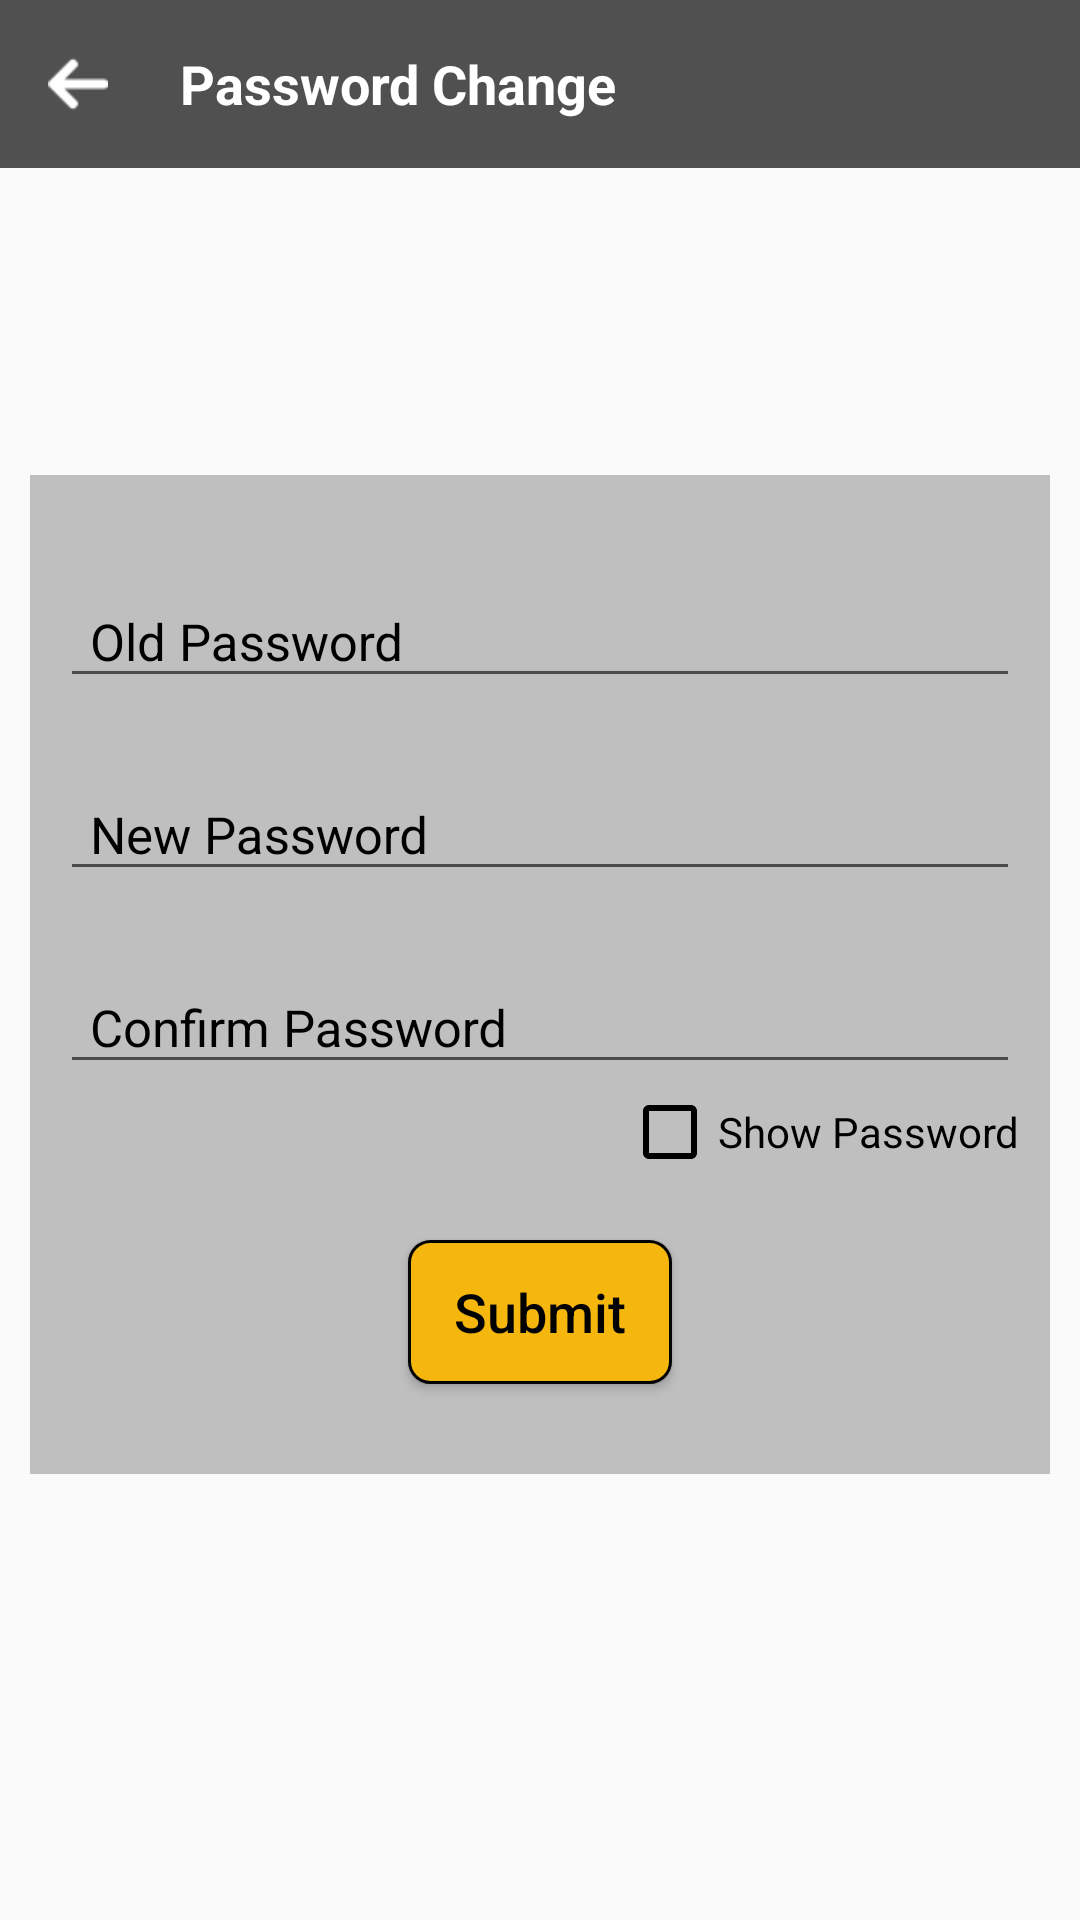

Icons on this 1080w x 1920h Android screen, each with its box as (x1, y1, x2, y2):
back: (48, 59, 108, 109)
